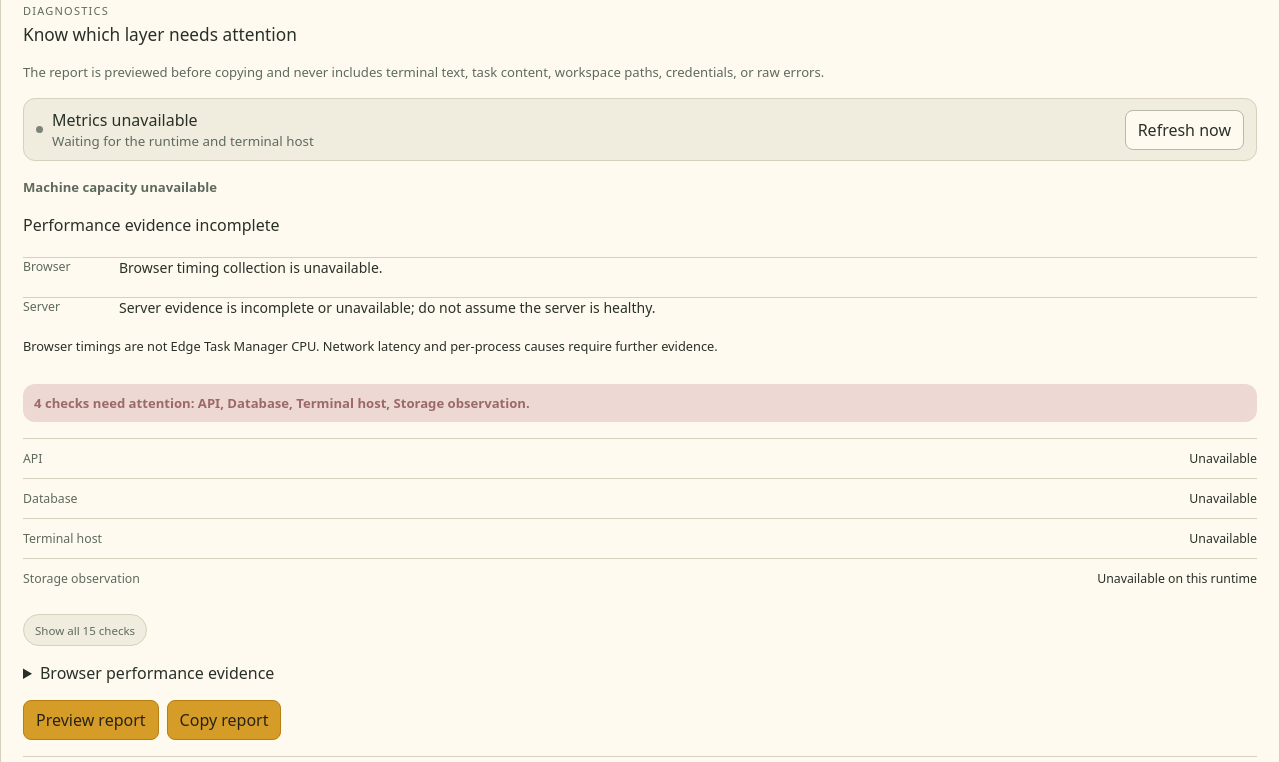
Test: distinguishes unattributed event phases from identified interaction timing
Click the heading "Browser performance evidence" at (157,673), box [40,662,274,684]
(page scrolled)
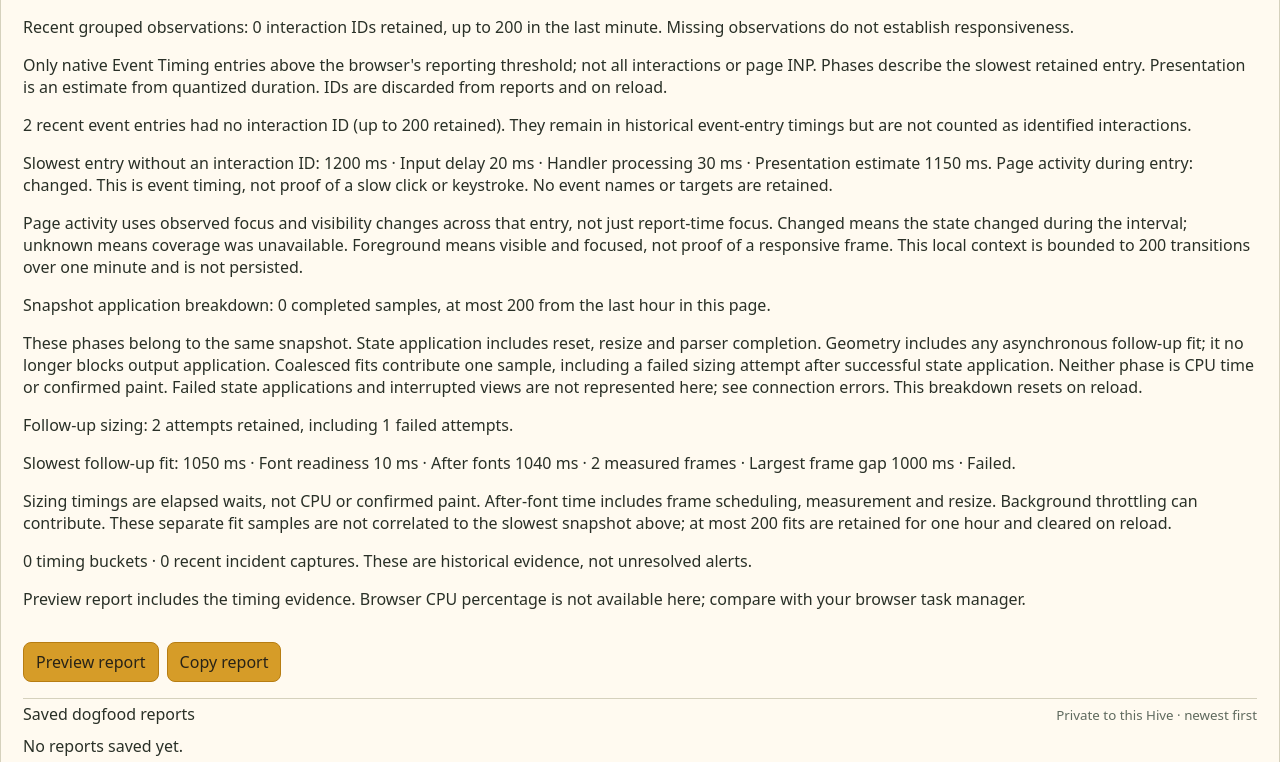
Result: the text "2 recent event entries had no interaction ID" is shown at [23,114,1257,136]
Result: the text "Slowest entry without an interaction ID" shows "1200 ms · Input delay 20 ms · Handler processing 30 ms · Presentation estimate 1150 ms" at [23,152,1257,196]
Result: the text "Recent grouped observations" shows "0 interaction IDs" at [23,16,1257,38]
